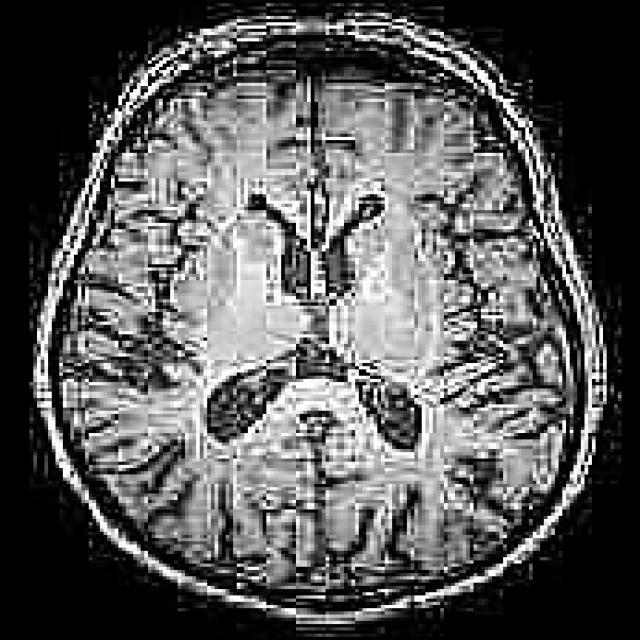notumor: (30, 13, 607, 615)
